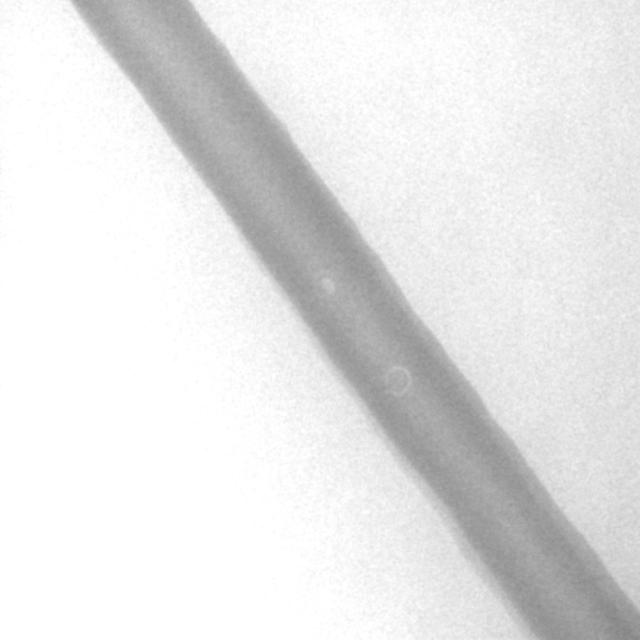hollow bead: (382, 364, 412, 400)
